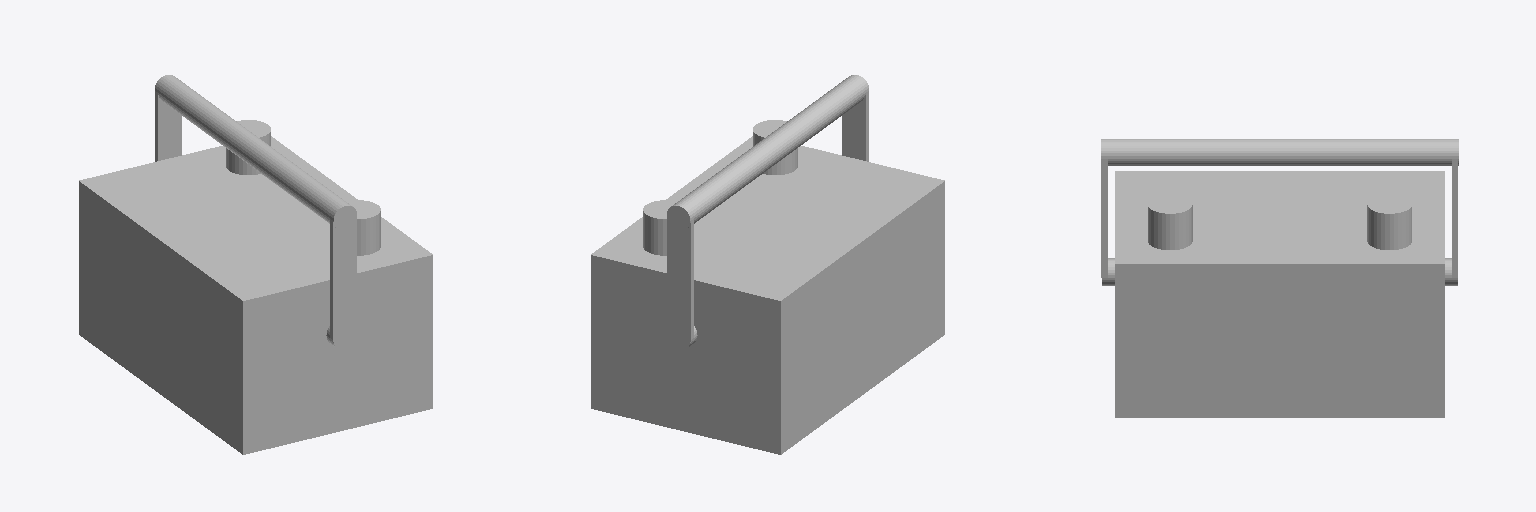
File: Battery.obj
3 views of the same model, side by side, from view 1: azimuth 30°, elevation 25°; view 2: azimuth 150°, elevation 25°; view 3: azimuth 270°, elevation 25° (orthographic).
Visible parts, largest first — view 1: Cube, Cylinder.002, Cylinder.001, Cylinder; view 2: Cube, Cylinder.002, Cylinder, Cylinder.001; view 3: Cube, Cylinder.002, Cylinder, Cylinder.001.
Part boxes in pixels (x1,y1,x2,y2): Cube: (79, 136, 432, 454); Cylinder.002: (155, 75, 356, 349); Cylinder.001: (347, 200, 380, 255); Cylinder: (226, 120, 270, 174); Cube: (591, 136, 944, 454); Cylinder.002: (667, 75, 868, 349); Cylinder: (643, 200, 676, 255); Cylinder.001: (753, 120, 797, 174); Cube: (1115, 171, 1444, 417); Cylinder.002: (1101, 139, 1458, 285); Cylinder: (1367, 195, 1411, 249); Cylinder.001: (1148, 195, 1192, 249).
Size of the model in its own units: 2 by 2.33 by 3.26.